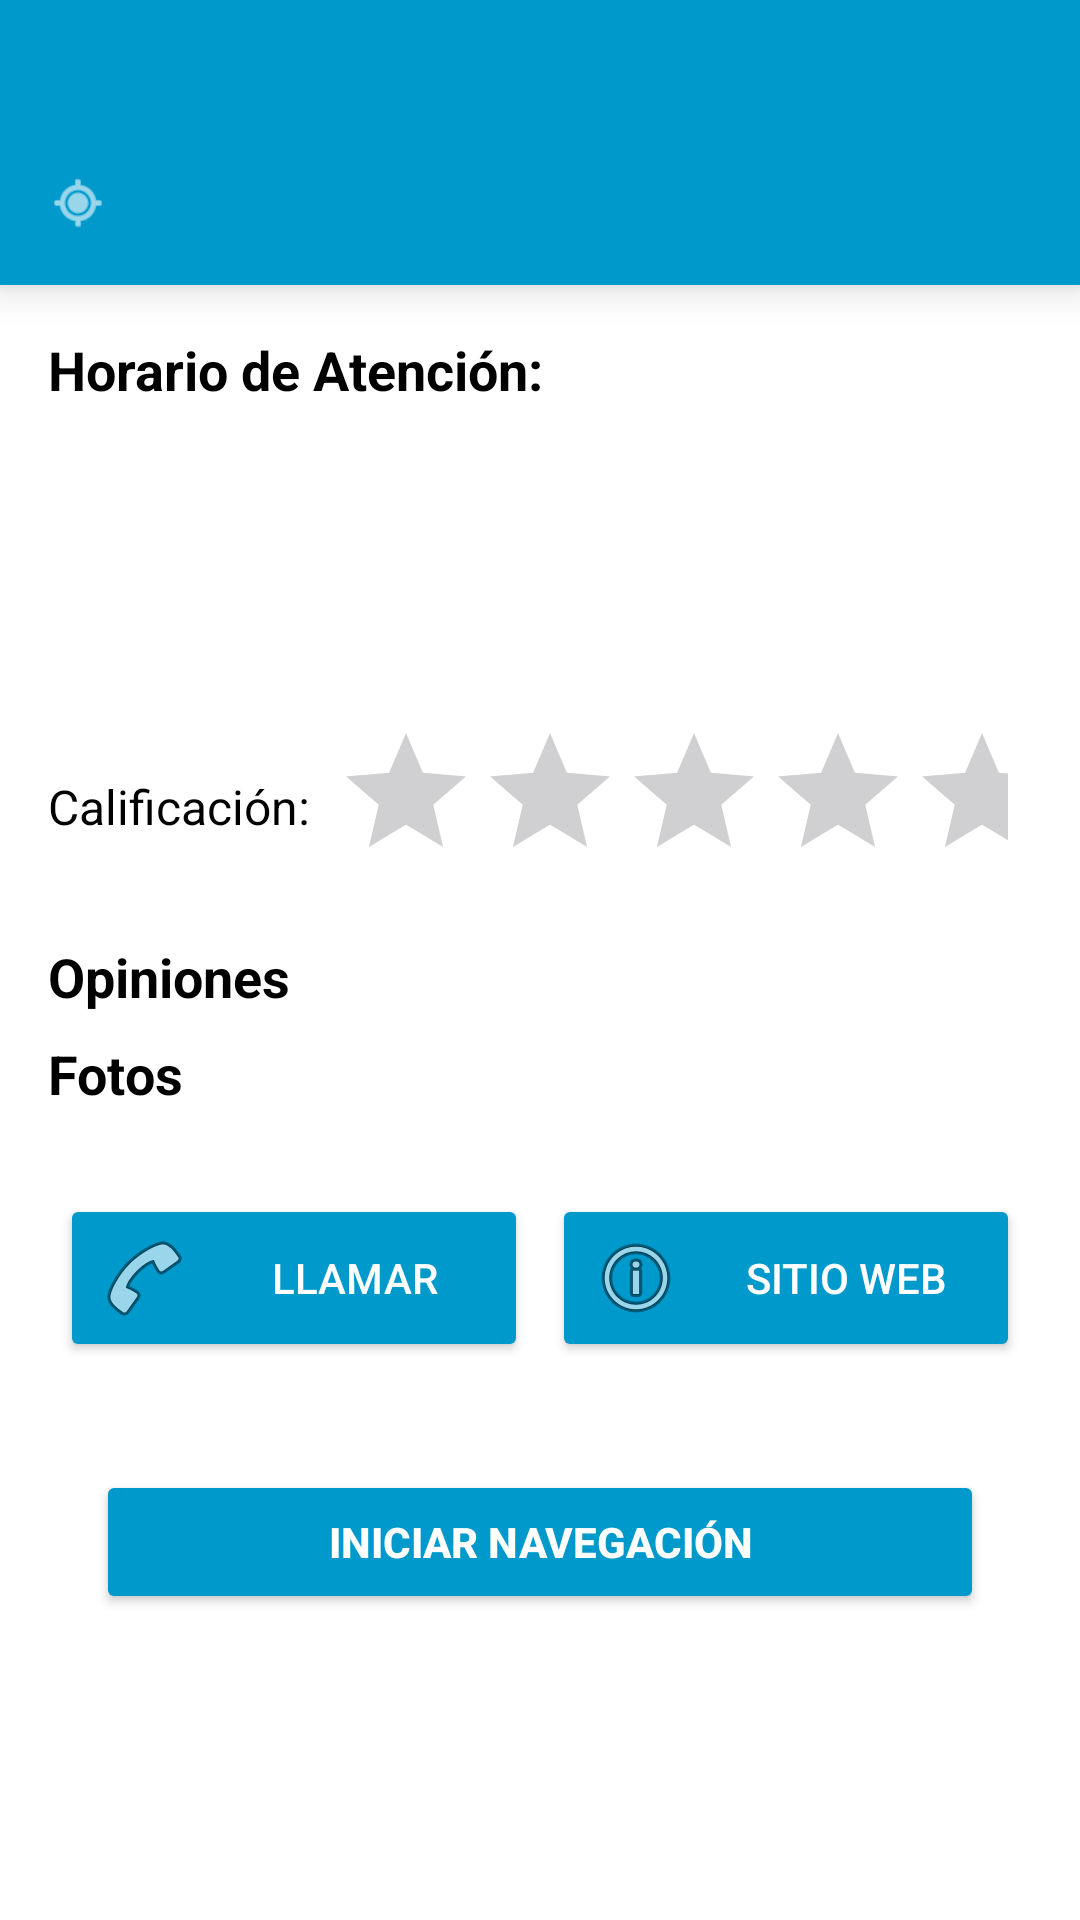

Icons on this 1080px×1920px Android screen, each with the point to tap as (x=x, y=y):
mylocation: (x=78, y=203)
